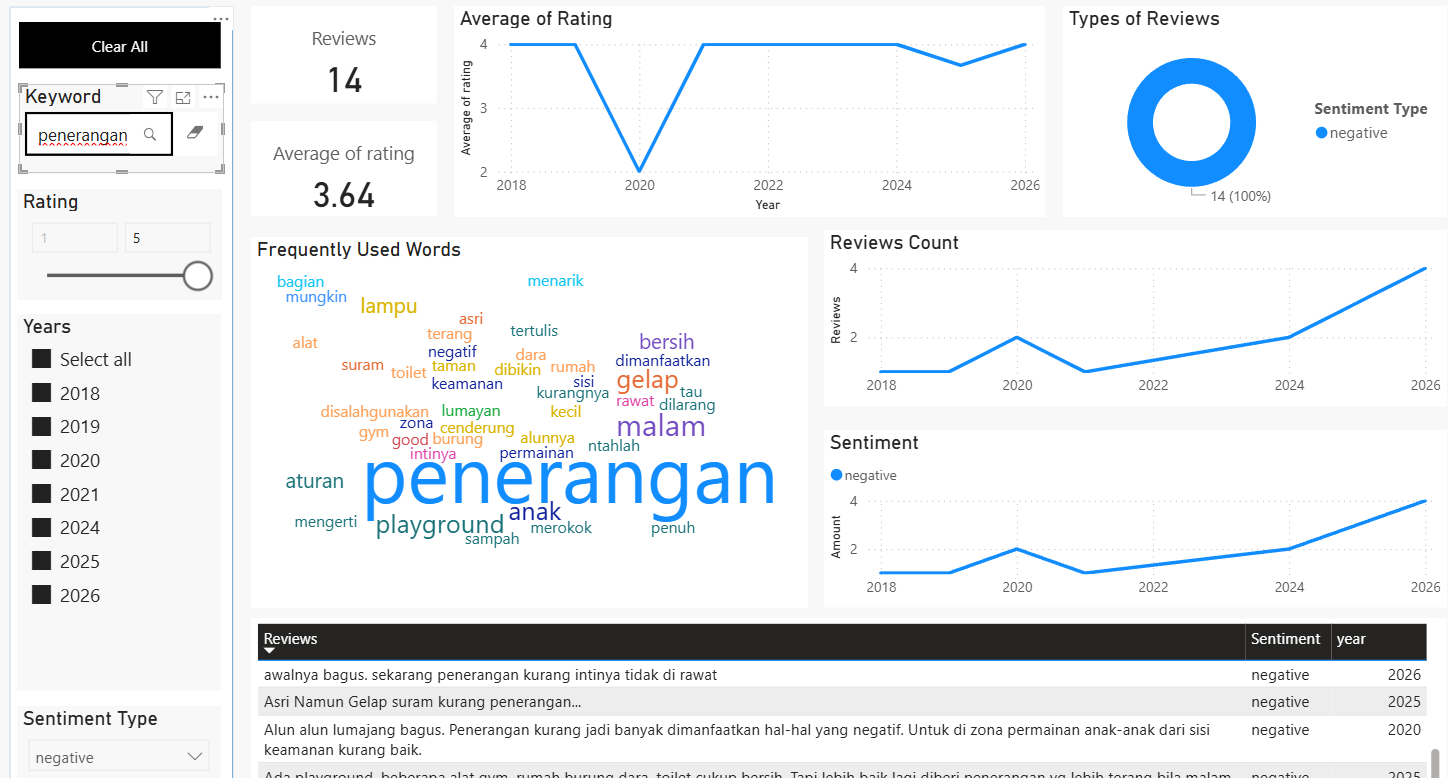

What the dashboard file says about the page in this screenshot:
{"tool":"powerbi","page":{"name":"Page 1","canvas":[1280,720],"ordinal":0},"visuals":[{"type":"cardVisual","fields":{"Data":["Avg(Sheet1.rating)"]},"box":[229.7,114.3,160,81.6],"z":0},{"type":"shape","box":[20.7,15.2,193.7,689],"z":1000},{"type":"lineChart","title":"Average of Rating","fields":{"Y":["Avg(Sheet1.rating)"],"Category":["Sheet1.date_parsed.Variation.Date Hierarchy.Year"]},"box":[404.9,15.2,510.5,181.8],"z":2000},{"type":"donutChart","title":"Types of Reviews","fields":{"Category":["Sheet1.sentiment_type"],"Y":["CountNonNull(Sheet1.sentiment_type)"]},"box":[929.5,15.2,330.9,181.8],"z":3000},{"type":"lineChart","title":"Sentiment","fields":{"Category":["Sheet1.date_parsed.Variation.Date Hierarchy.Year"],"Y":["CountNonNull(Sheet1.sentiment_type)"],"Series":["Sheet1.sentiment_type"]},"box":[723.8,381,536.6,153.5],"z":4000},{"type":"lineChart","title":"Reviews Count","fields":{"Category":["Sheet1.date_parsed.Variation.Date Hierarchy.Year"],"Y":["CountNonNull(Sheet1.review_id)"]},"box":[723.8,209,536.6,152.4],"z":5000},{"type":"tableEx","fields":{"Values":["Sheet1.review_text","Sheet1.sentiment_type"]},"box":[229.7,543.1,1030.7,169.8],"z":6000},{"type":"textFilter25A4896A83E0487089E2B90C9AE57C8A","fields":{"field":["Sheet1.review_text"]},"box":[29.4,82.7,176.3,77.3],"z":7000},{"type":"WordCloud1447959067750","title":"Frequently Used Words","fields":{"Values":["CountNonNull(Sheet1.word_cloud)"],"Category":["Sheet1.word_cloud"]},"box":[229.7,214.4,480,320],"z":8000},{"type":"slicer","title":"Rating","fields":{"Values":["Sheet1.rating"]},"box":[27.2,173.1,176.3,94.7],"z":9000},{"type":"cardVisual","fields":{"Data":["CountNonNull(Sheet1.review_id)"]},"box":[229.7,15.2,160,83.8],"z":10000},{"type":"slicer","title":"Years","fields":{"Values":["Sheet1.year"]},"box":[27.2,280.8,176.3,325.4],"z":11000},{"type":"slicer","title":"Sentiment Type","fields":{"Values":["Sheet1.sentiment_type"]},"box":[27.2,619.3,176.3,68.6],"z":12000},{"type":"actionButton","box":[29.4,29.4,174.1,40.3],"z":13000}]}

Visuals, with their boxes on the page's 1280x720 design canvas (x1, y1, x2, y2). These are canvas units, not pixel positions in the 1448x778 screenshot, which may show the page scaled, cropped or inside an application window:
cardVisual - Avg(Sheet1.rating): (x1=230, y1=114, x2=390, y2=196)
shape: (x1=21, y1=15, x2=214, y2=704)
"Average of Rating" lineChart: (x1=405, y1=15, x2=915, y2=197)
"Types of Reviews" donutChart: (x1=930, y1=15, x2=1260, y2=197)
"Sentiment" lineChart: (x1=724, y1=381, x2=1260, y2=534)
"Reviews Count" lineChart: (x1=724, y1=209, x2=1260, y2=361)
tableEx - Sheet1.review_text x Sheet1.sentiment_type: (x1=230, y1=543, x2=1260, y2=713)
textFilter25A4896A83E0487089E2B90C9AE57C8A - Sheet1.review_text: (x1=29, y1=83, x2=206, y2=160)
"Frequently Used Words" WordCloud1447959067750: (x1=230, y1=214, x2=710, y2=534)
"Rating" slicer: (x1=27, y1=173, x2=204, y2=268)
cardVisual - CountNonNull(Sheet1.review_id): (x1=230, y1=15, x2=390, y2=99)
"Years" slicer: (x1=27, y1=281, x2=204, y2=606)
"Sentiment Type" slicer: (x1=27, y1=619, x2=204, y2=688)
actionButton: (x1=29, y1=29, x2=204, y2=70)
